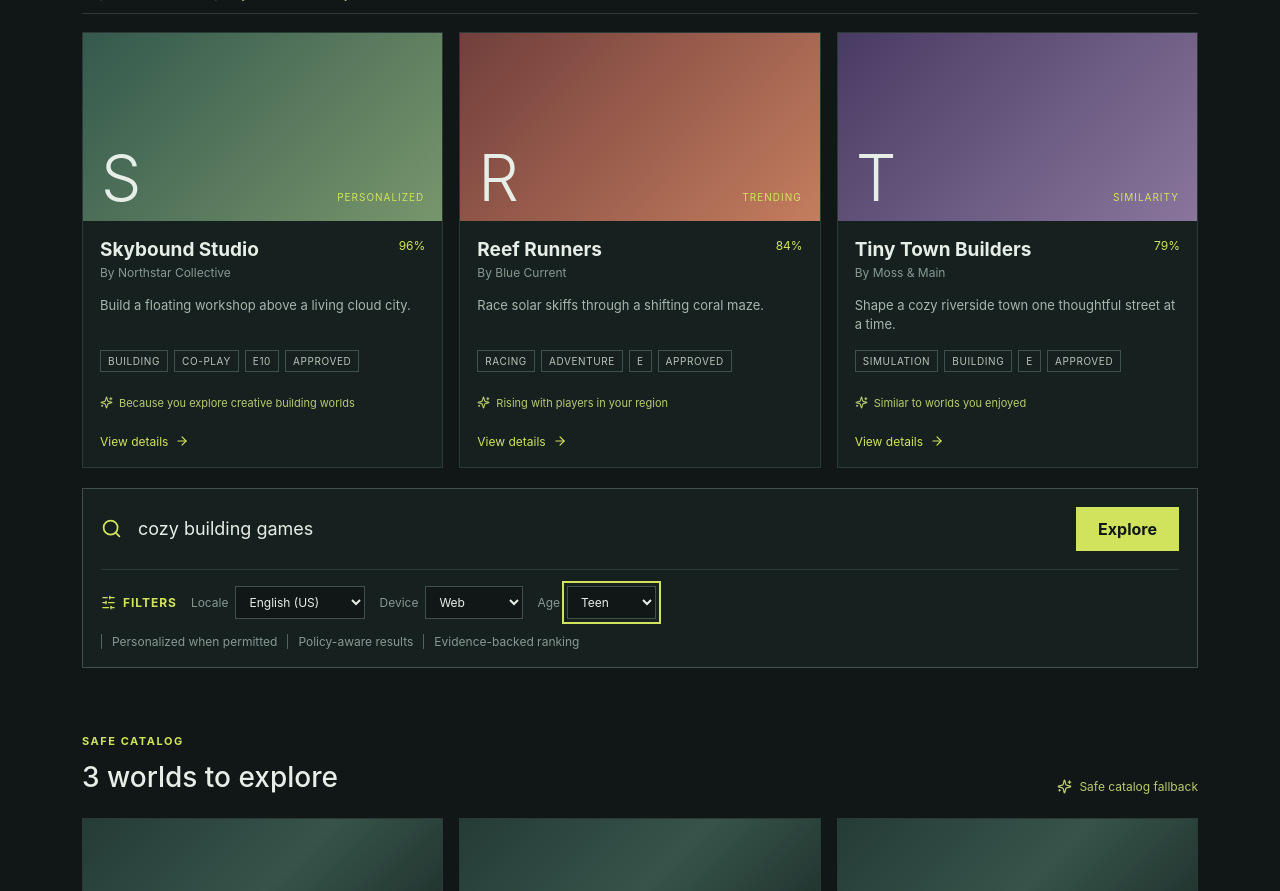
Test: IMD-068 accessibility and visual contract › keeps the search surface keyboard reachable with named controls
(page scrolled)
Expected: the button "Explore" is shown, [1076,507,1179,551]
Expected: the dropdown labelled "Locale" is shown, [236,586,366,619]
Press Escape in the field named "Search experiences", box [136,517,1062,540]
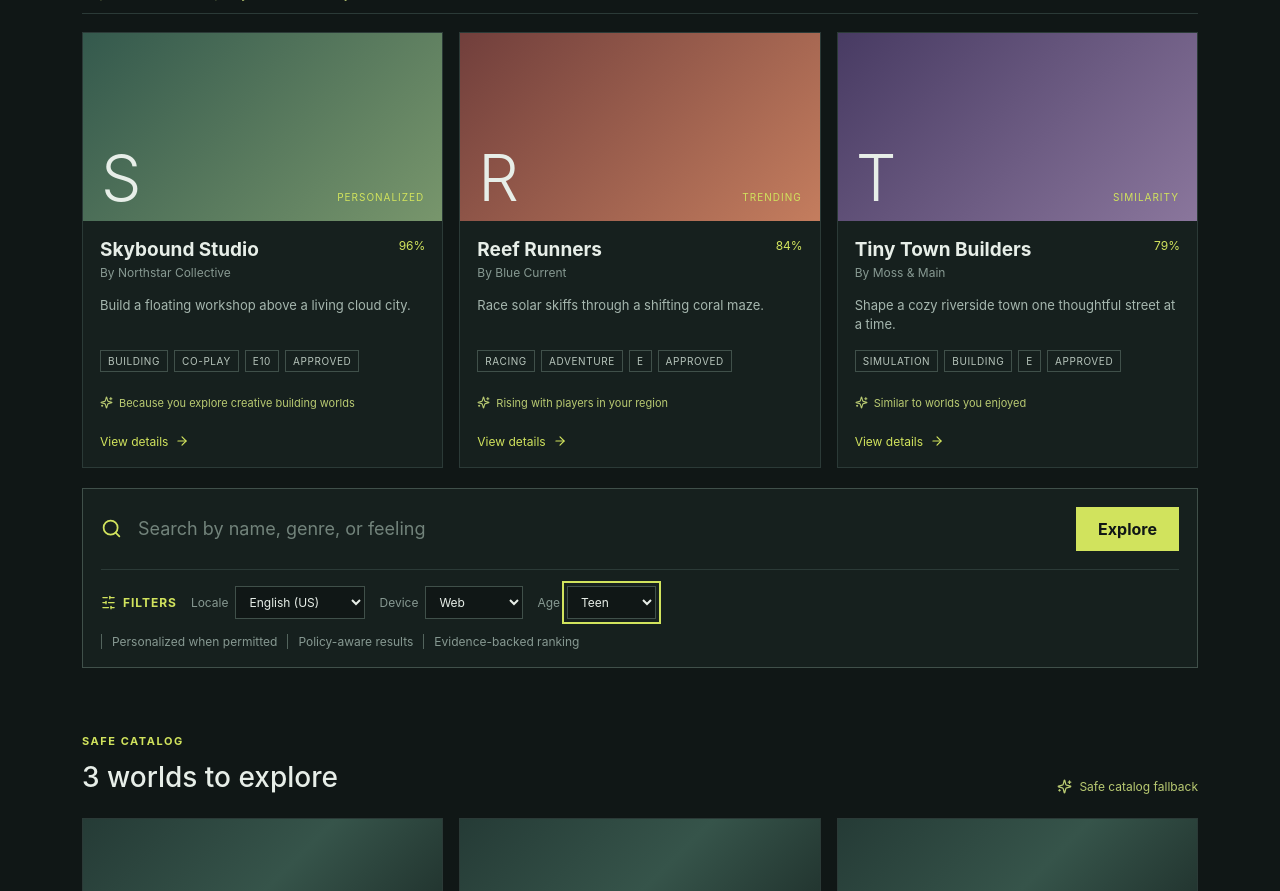
Expected: the field named "Search experiences" is empty, [136,517,1062,540]
Click the button "Explore" at [1128, 529], box [1076,507,1179,551]
(page scrolled)
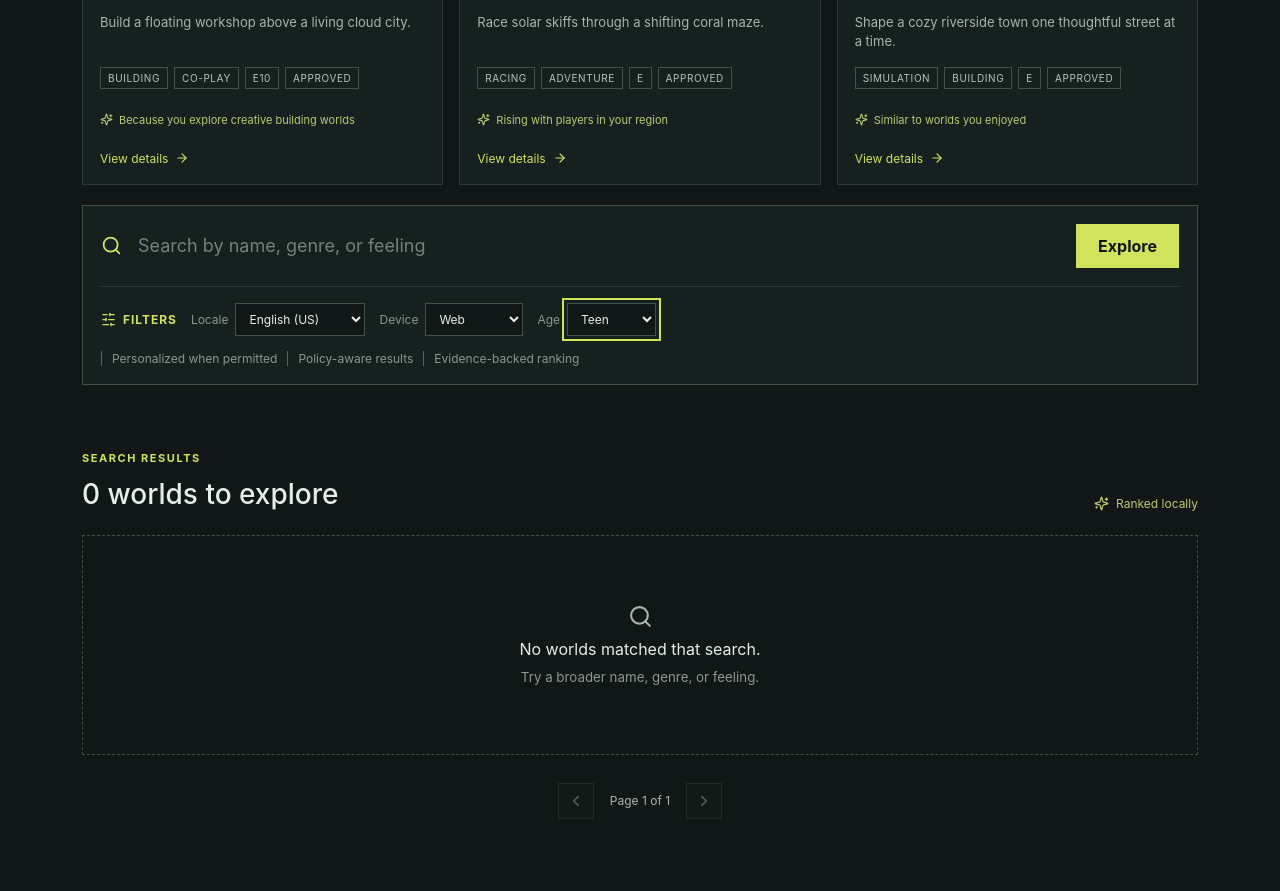
Expected: the text "No worlds matched that search." is shown, [520,639,760,659]
